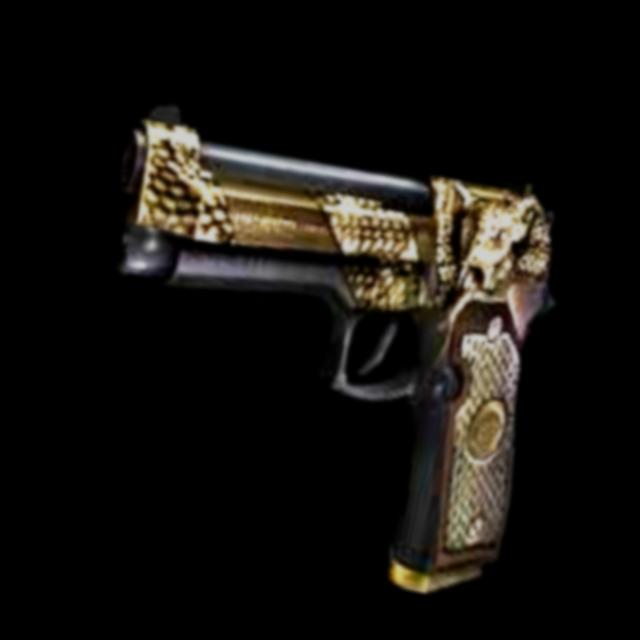semi automatic: (42, 81, 586, 630)
